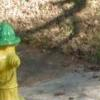Hydrant: (1, 18, 29, 96)
